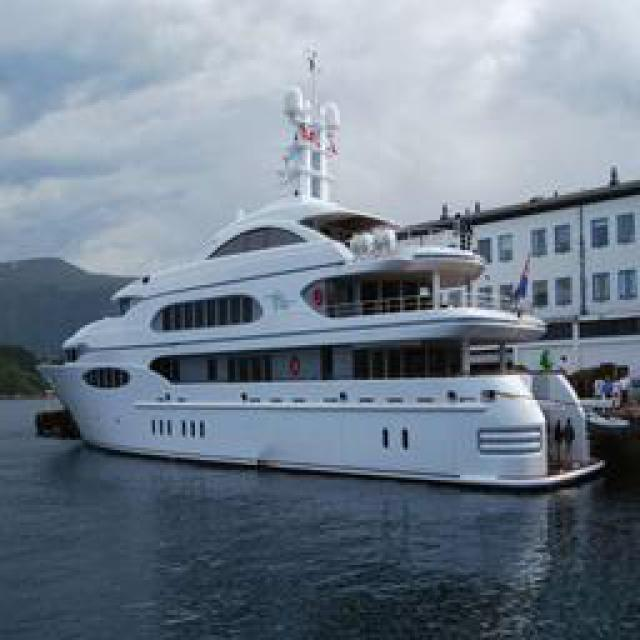Ship: (40, 177, 613, 485)
